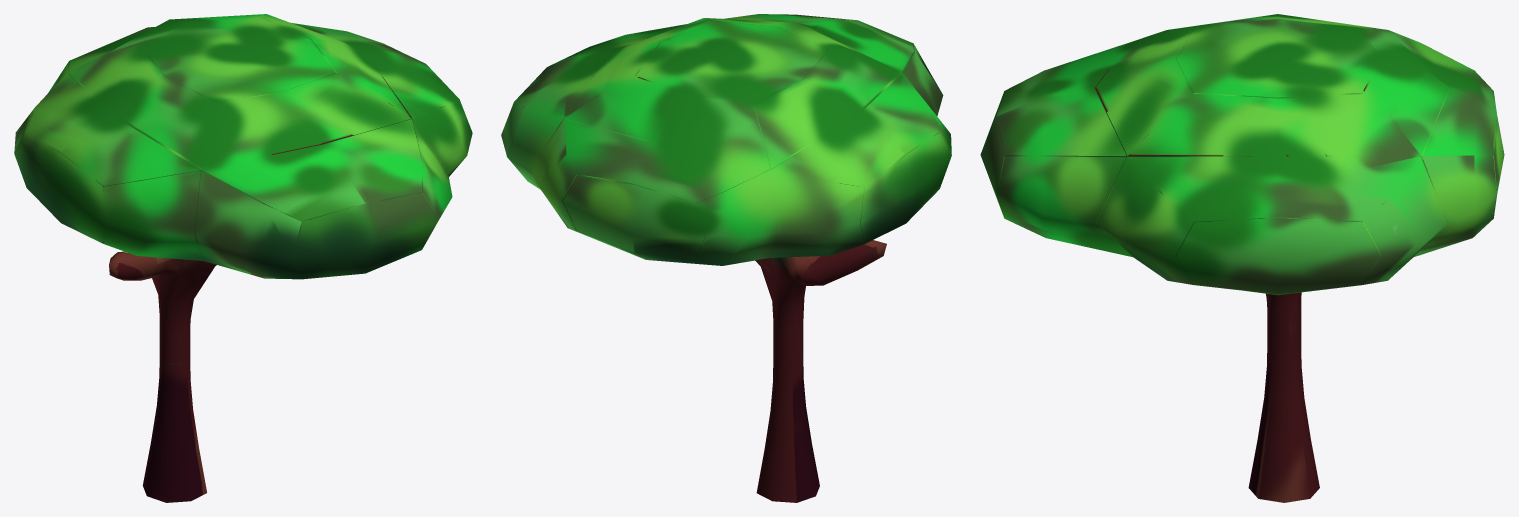
The model's file is tree.obj.
The picture shows the model from 3 angles, left to right: view 1: azimuth 30°, elevation 25°; view 2: azimuth 150°, elevation 25°; view 3: azimuth 270°, elevation 25°; orthographic projection. The views are drawn at different scales.
Parts seen in each view (by area): view 1: Cube; view 2: Cube; view 3: Cube.
Part boxes in pixels (bbox=[...]): Cube: bbox=[14, 14, 472, 502]; Cube: bbox=[501, 14, 951, 502]; Cube: bbox=[980, 14, 1504, 502].
Size of the model in its own units: 5.04 by 5.33 by 5.43.
